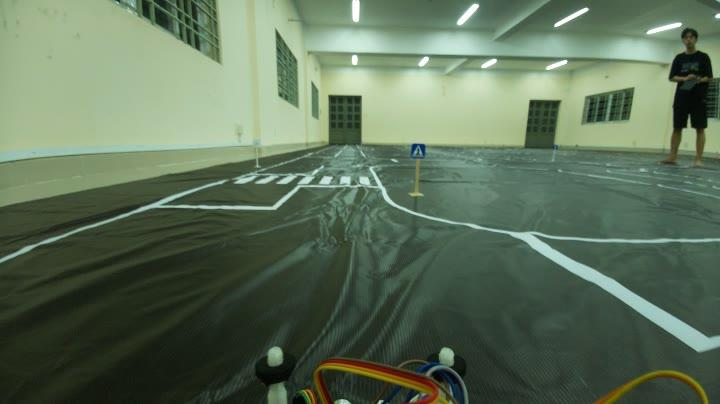crosswalk: (402, 136, 432, 162)
